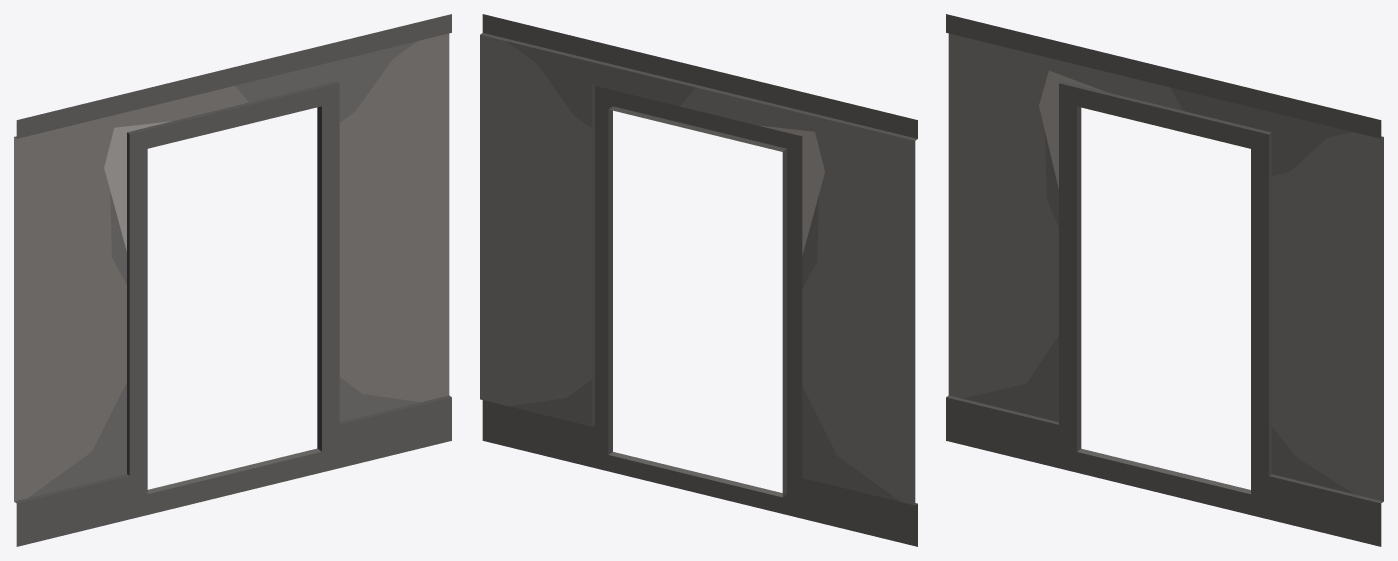
Rendered from AI_Env_Wall_Grey_Doorway.fbx.
3 renders of one model, left to right at view 1: azimuth 30°, elevation 25°; view 2: azimuth 150°, elevation 25°; view 3: azimuth 330°, elevation 25°, orthographic.
Visible parts, largest first — view 1: AI_Env_Wall_Grey_Doorway; view 2: AI_Env_Wall_Grey_Doorway; view 3: AI_Env_Wall_Grey_Doorway.
Boxes of the visible parts, x1,y1,x2,y2 form: AI_Env_Wall_Grey_Doorway: (14,14,451,546); AI_Env_Wall_Grey_Doorway: (480,14,917,546); AI_Env_Wall_Grey_Doorway: (946,14,1383,546).
Size of the model in its own units: 5 by 4.69 by 0.0885.
